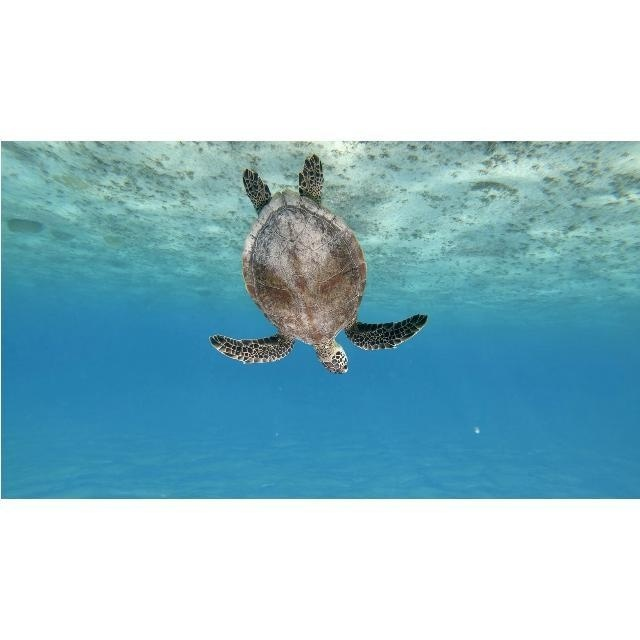turtle: (208, 154, 428, 374)
